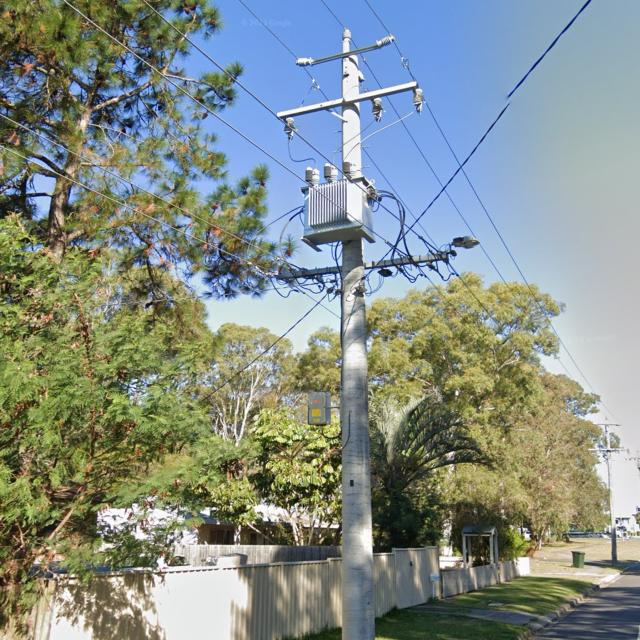HV-transmission: (275, 30, 424, 136)
LV link: (395, 263, 427, 283), (428, 263, 458, 283), (270, 278, 300, 298), (295, 275, 326, 294)
LV link box: (378, 268, 394, 278)
concrete-pole: (337, 29, 375, 640)
crossarm: (278, 249, 456, 282), (275, 81, 418, 121), (296, 35, 395, 68)
streetlight: (452, 236, 481, 250)
transformer: (302, 168, 370, 246)
